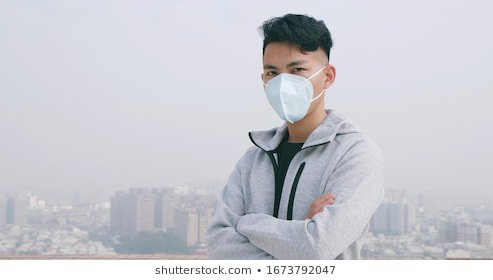mask: (248, 11, 347, 131)
